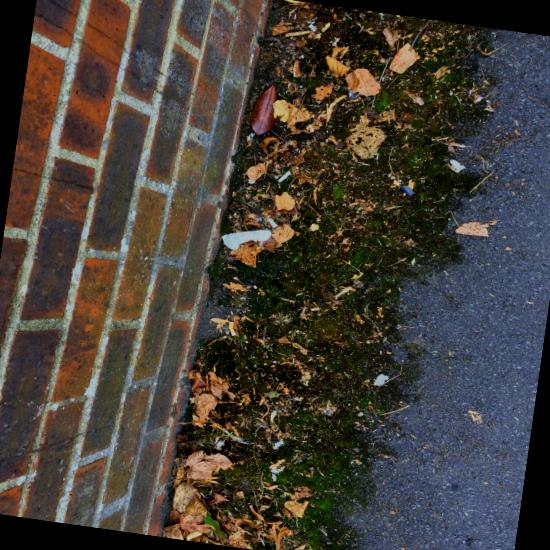Aluminium foil: (221, 229, 271, 250)
Other plastic bottle: (400, 184, 416, 198)
